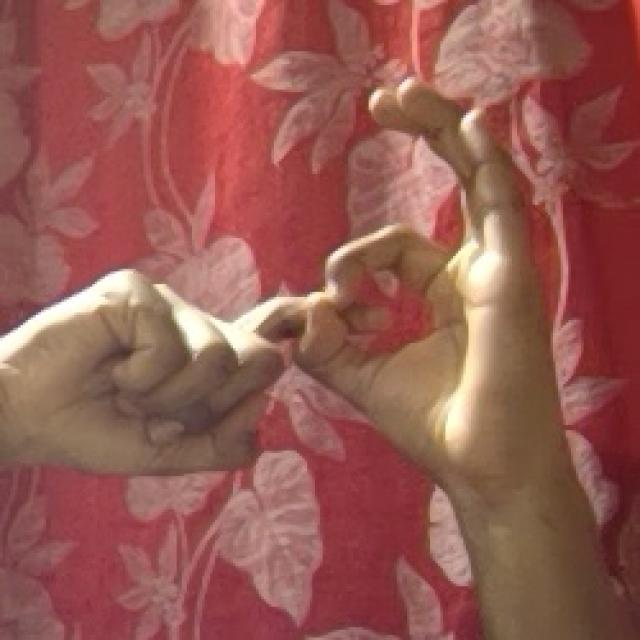Alphabet-Q: (15, 46, 567, 523)
